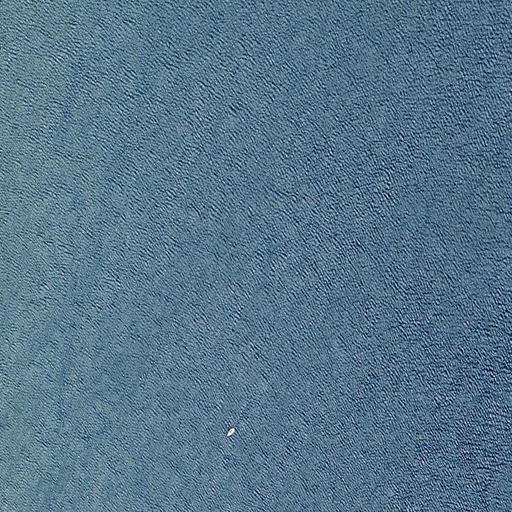ship: (226, 427, 236, 437)
